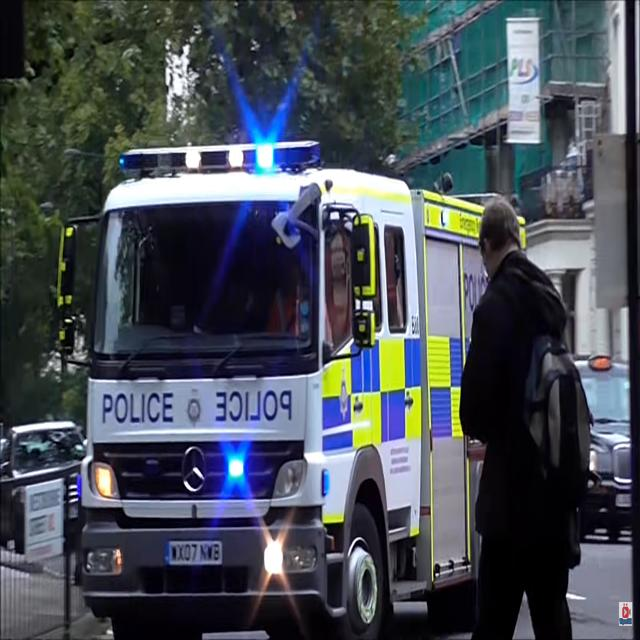emergency-vehicles: (40, 123, 527, 640)
